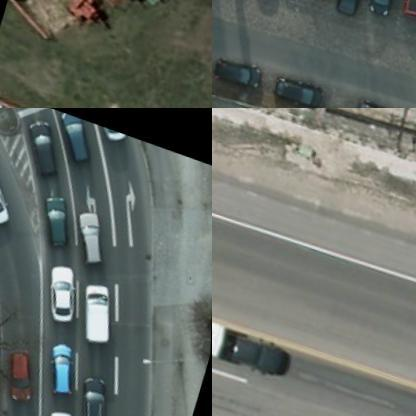car: (224, 323, 296, 381), (17, 108, 75, 177), (2, 333, 51, 402), (35, 178, 83, 244), (72, 197, 119, 262), (74, 359, 126, 415), (49, 108, 100, 163), (46, 330, 90, 393), (44, 256, 84, 320), (213, 50, 268, 88), (280, 70, 335, 107), (0, 166, 24, 224), (357, 90, 415, 107), (88, 115, 134, 136), (38, 399, 92, 415), (375, 0, 410, 12)
van: (73, 268, 128, 342)
